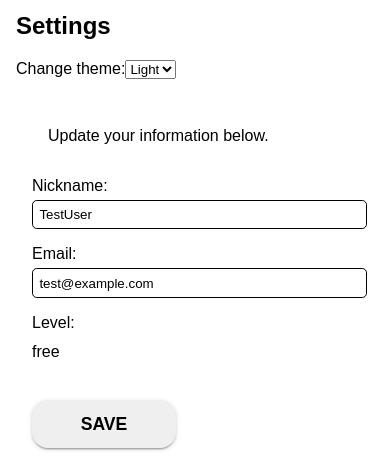
Test: Settings › disables Save while pending and re-enables it after success
The image size is (384, 468).
What coordinates should you click on to do the following:
click the button "Save"
I would click on:
 (104, 424)
Its box is [32,400,176,448].
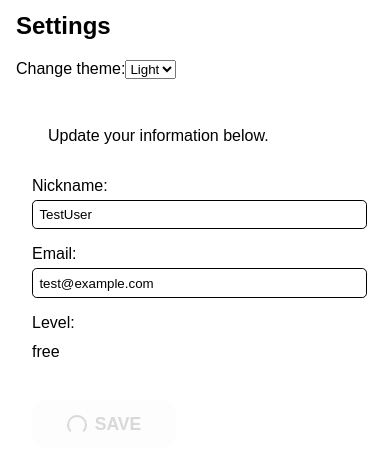
Expected: the button "Save" is disabled
What coordinates should you click on to do the following:
click the button "Save"
I would click on:
 (104, 424)
Its box is [32,400,176,448].
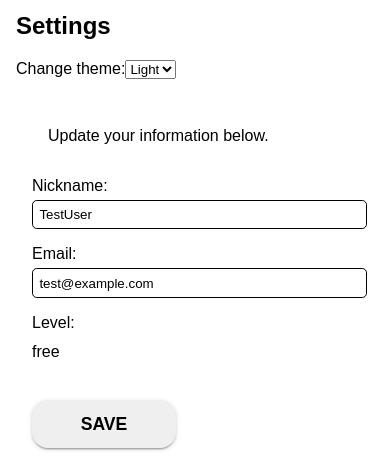
Expected: the button "Save" is enabled, [32,400,176,448]
